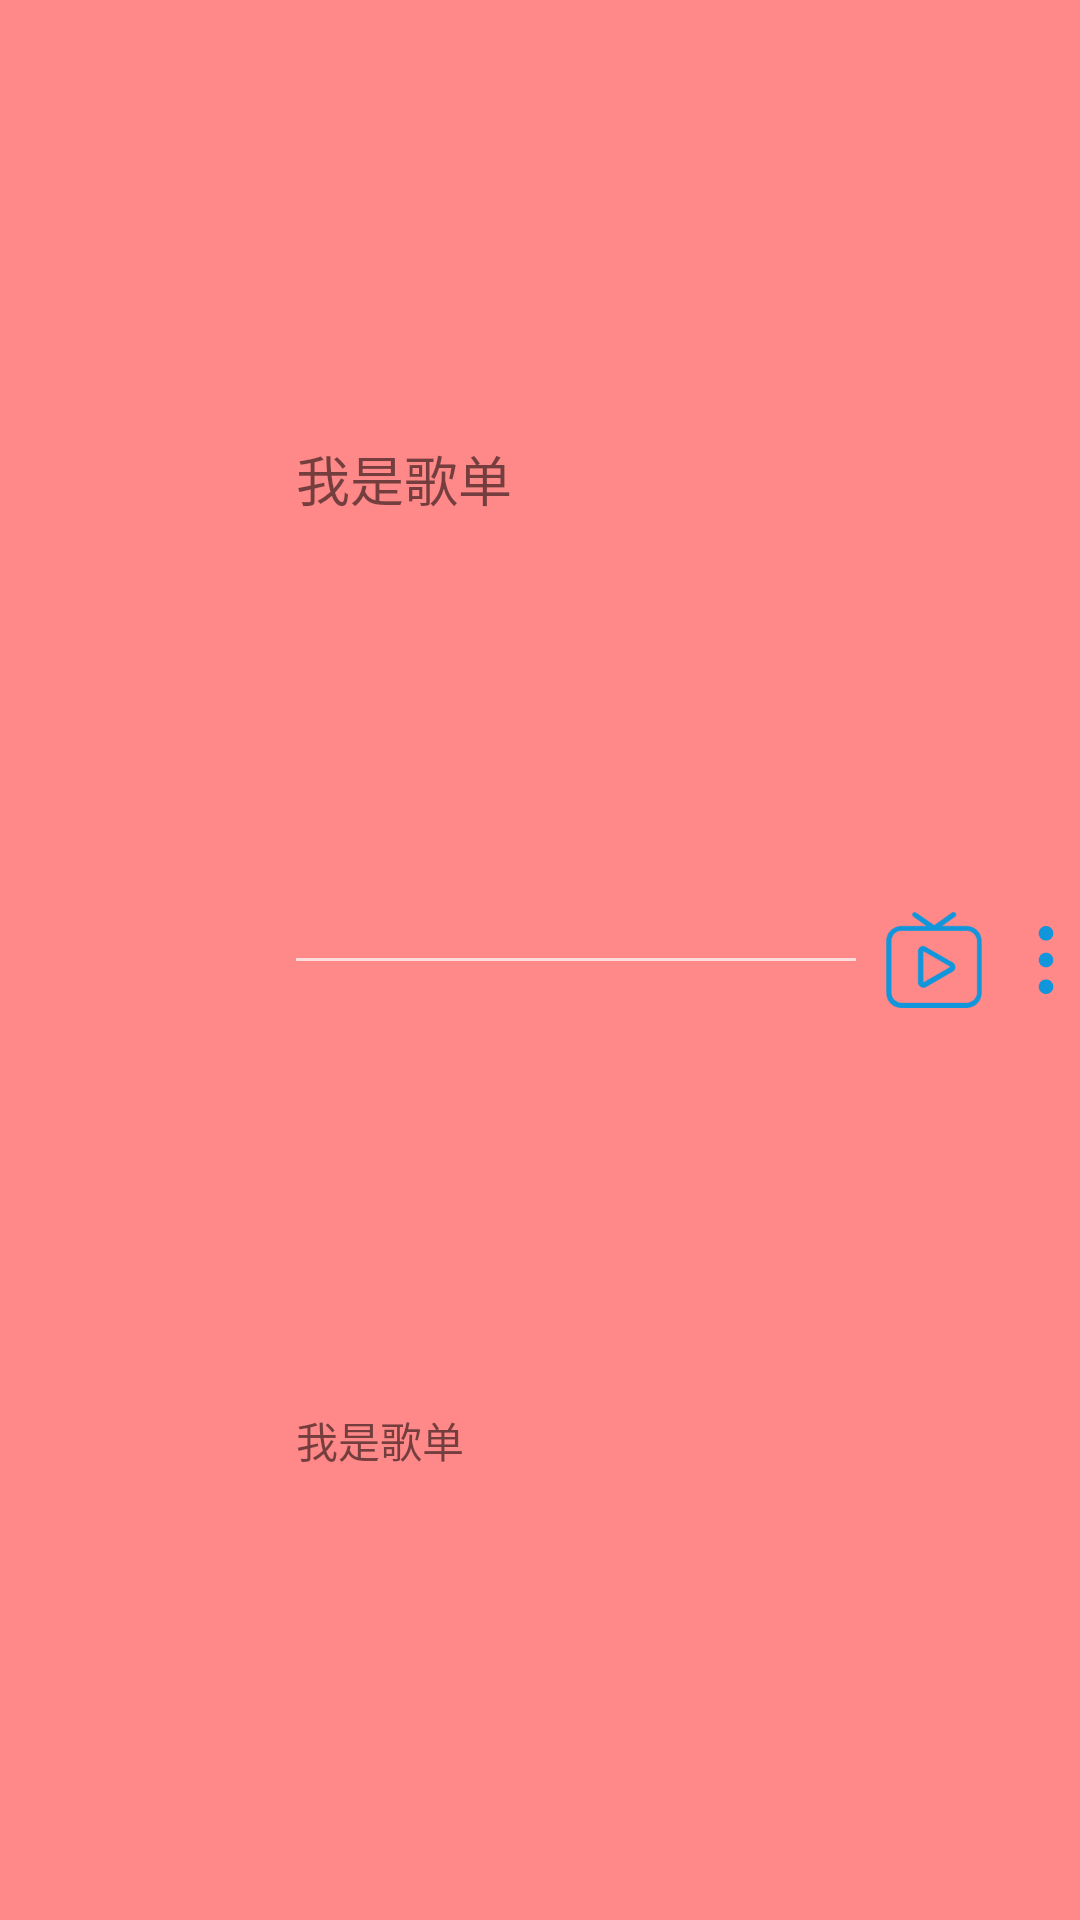

Screen size 1080 × 1920. Icon name, then its center in pixels as (x,y):
bofang: (934,960)
caidan: (1046,960)
